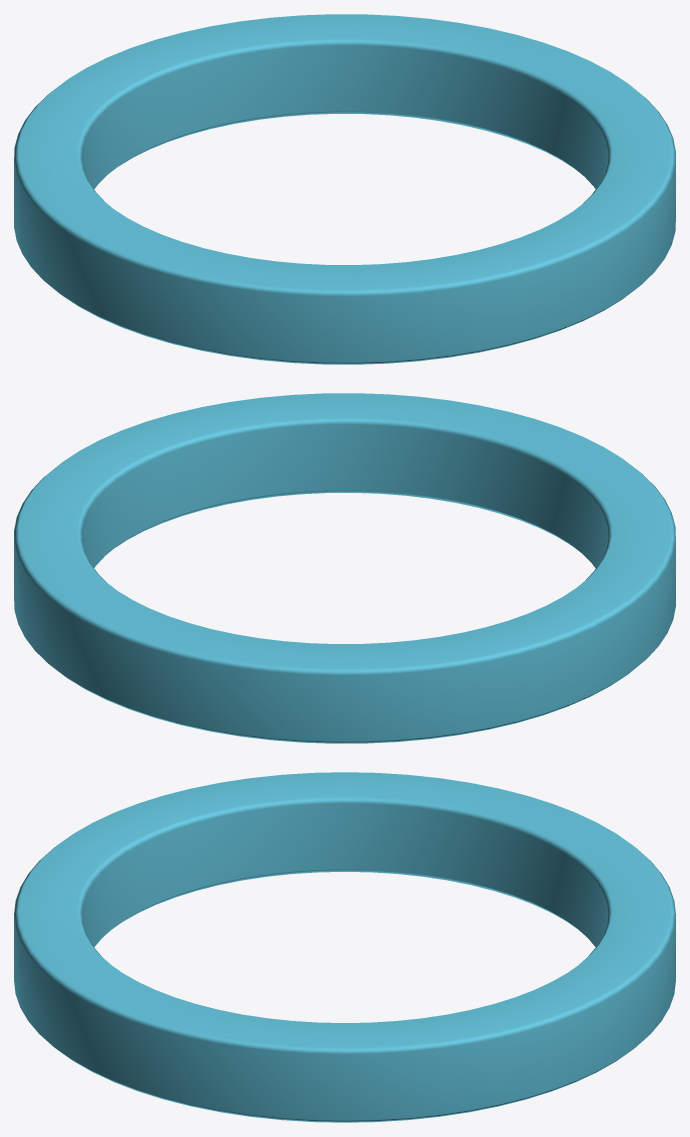
The picture shows the model from 3 angles, top to bottom: view 1: azimuth 30°, elevation 25°; view 2: azimuth 150°, elevation 25°; view 3: azimuth 270°, elevation 25°; orthographic projection.
Parts seen in each view (by area): view 1: seal_body; view 2: seal_body; view 3: seal_body.
Boxes of the visible parts, x1,y1,x2,y2 form: seal_body: (14,14,675,364); seal_body: (14,393,675,743); seal_body: (14,772,675,1122).
Size of the model in its own units: 0.08 by 0.01 by 0.08.
